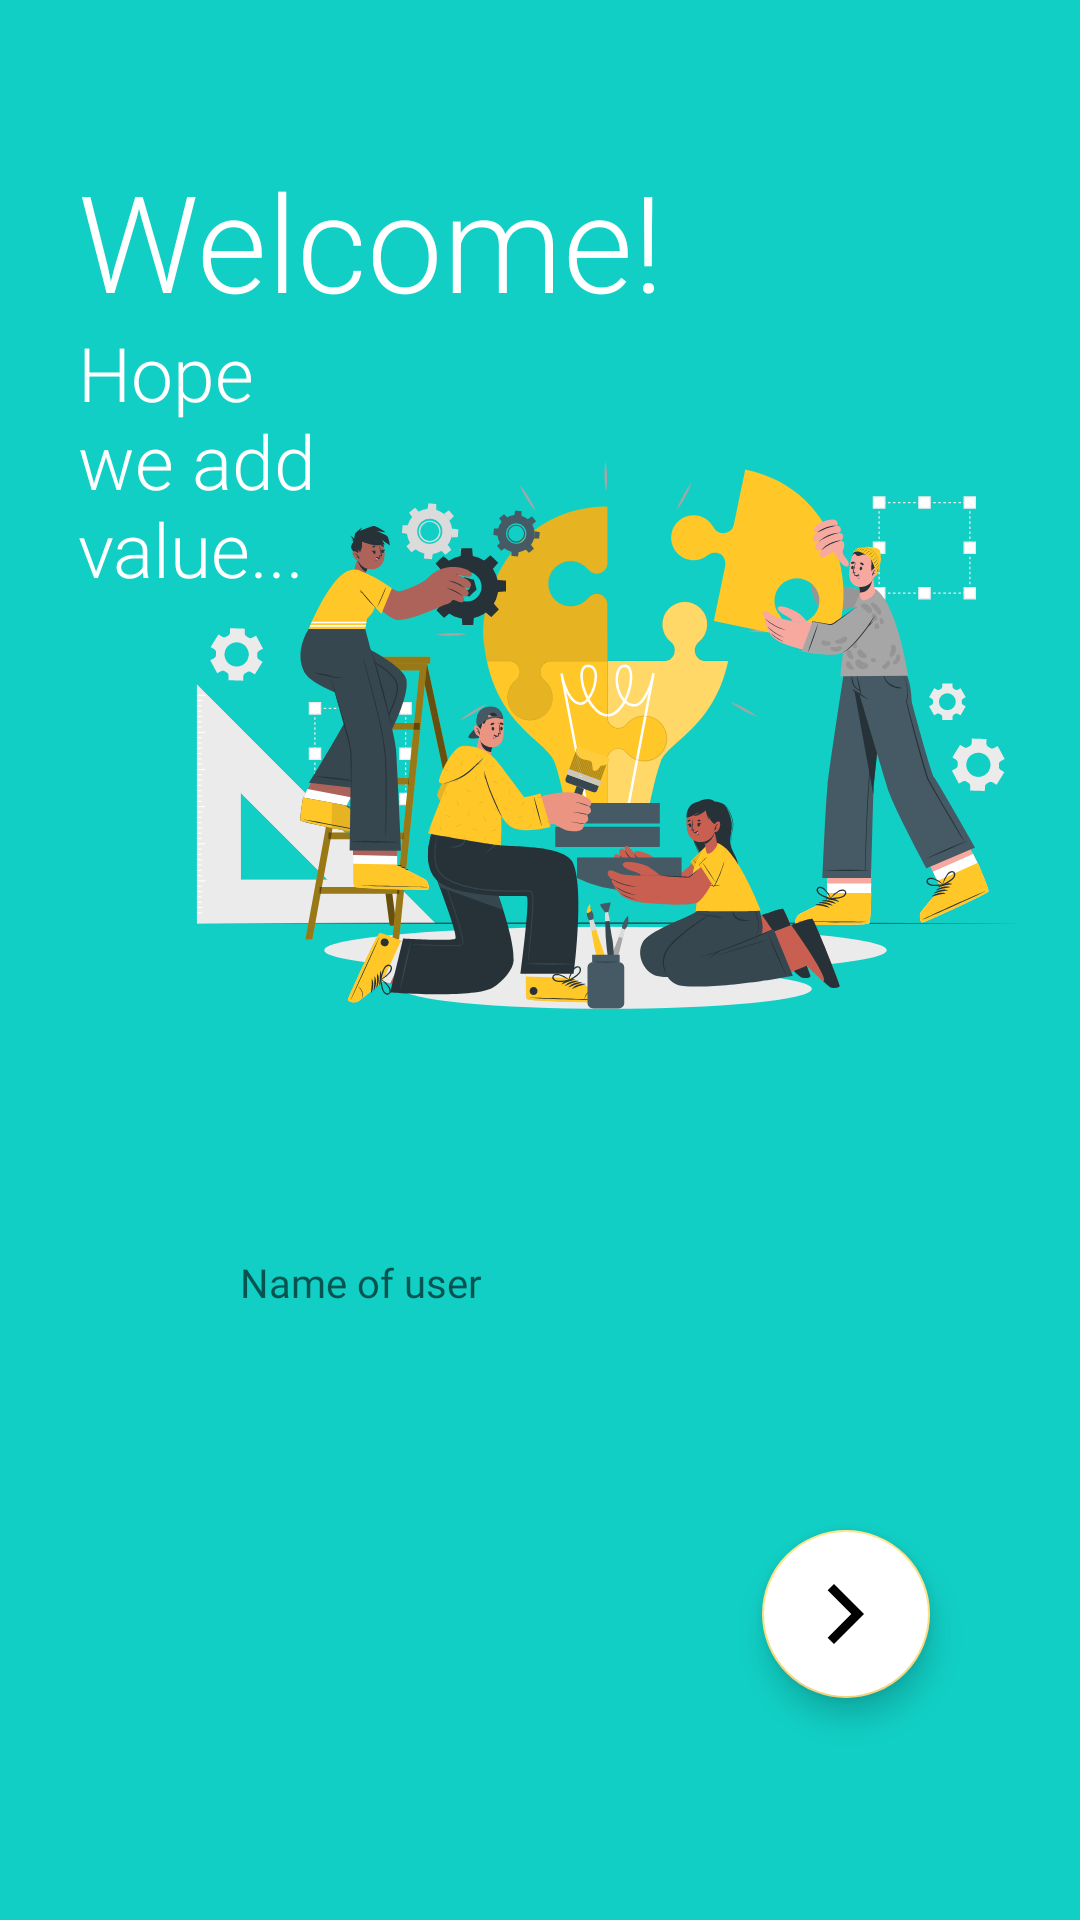

Where icons sit on this 1080*1920 app screen, as (x1, y1, x2, y2):
forward: (762, 1530, 930, 1698)
